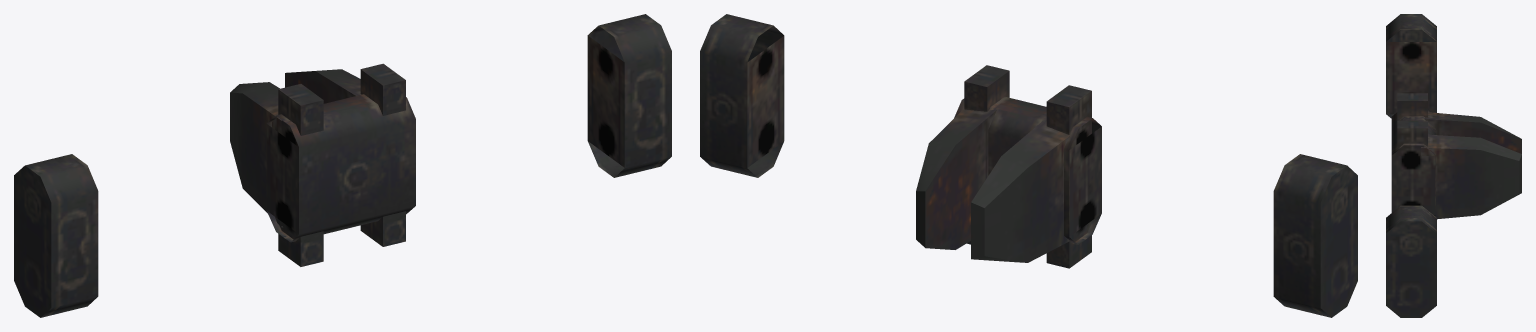
The picture shows the model from 3 angles, left to right: view 1: azimuth 30°, elevation 25°; view 2: azimuth 150°, elevation 25°; view 3: azimuth 270°, elevation 25°; orthographic projection. The views are drawn at different scales.
Parts seen in each view (by area): view 1: set_0_group_0; view 2: set_0_group_0; view 3: set_0_group_0.
Part boxes in pixels (x1,y1,x2,y2): set_0_group_0: [14, 14, 671, 317]; set_0_group_0: [700, 14, 1357, 317]; set_0_group_0: [1386, 14, 1521, 317].
Size of the model in its own units: 0.5578 by 0.1386 by 0.1546.
Materials: 1 (1 with a texture image).
